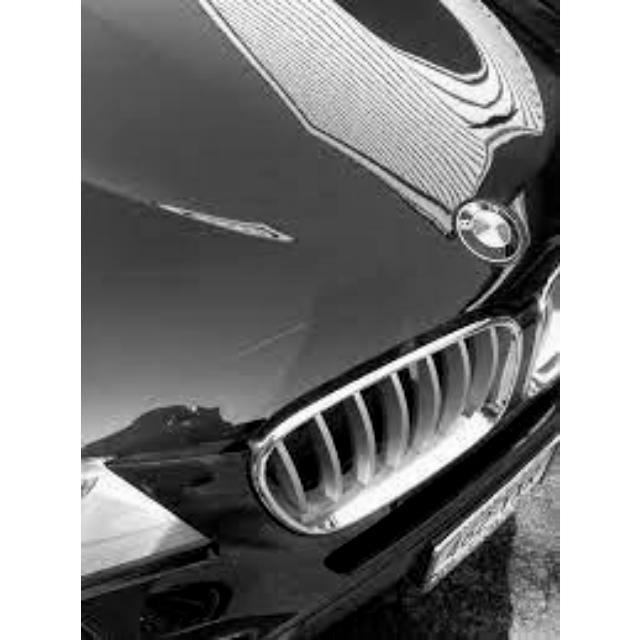bonnet-dent: (81, 3, 412, 591)
